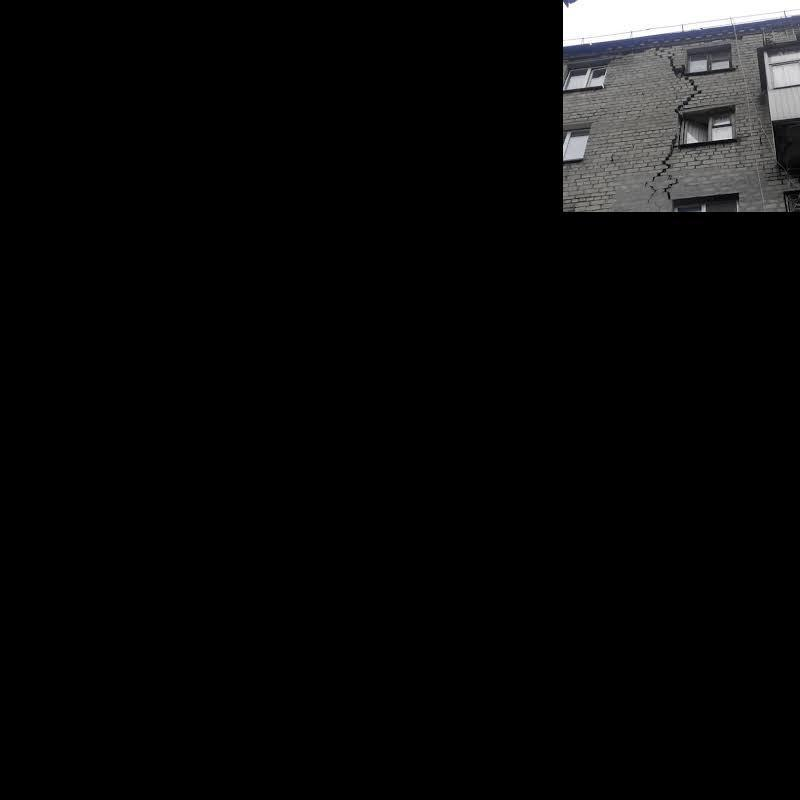pothole: (645, 46, 701, 203)
